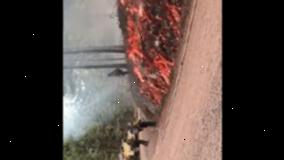fire: (104, 0, 179, 93)
